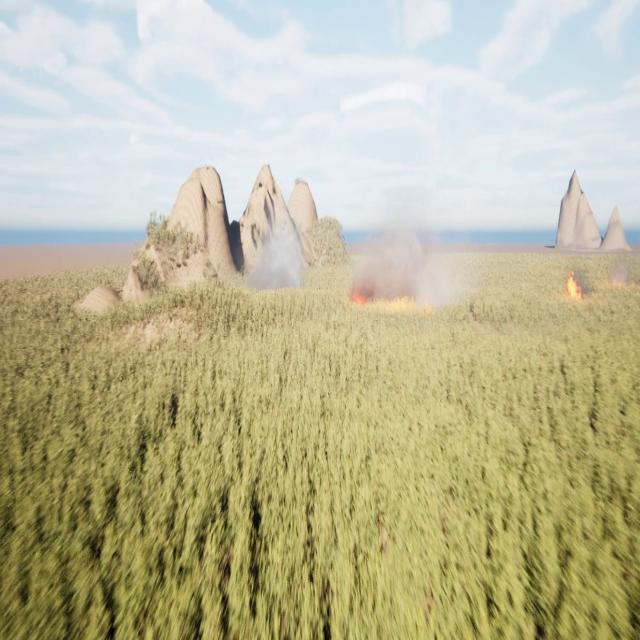fire: (346, 276, 371, 305), (562, 267, 584, 299)
smoke: (342, 208, 458, 308), (243, 221, 306, 289), (604, 259, 631, 291)
